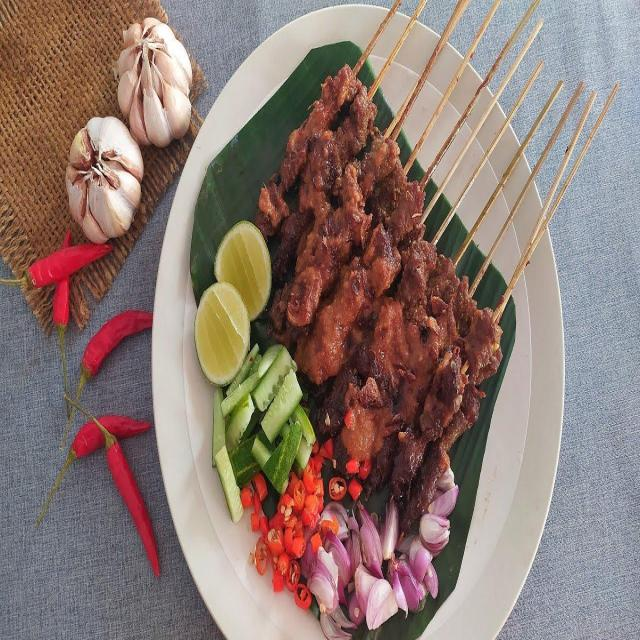Sate: (259, 6, 613, 494)
